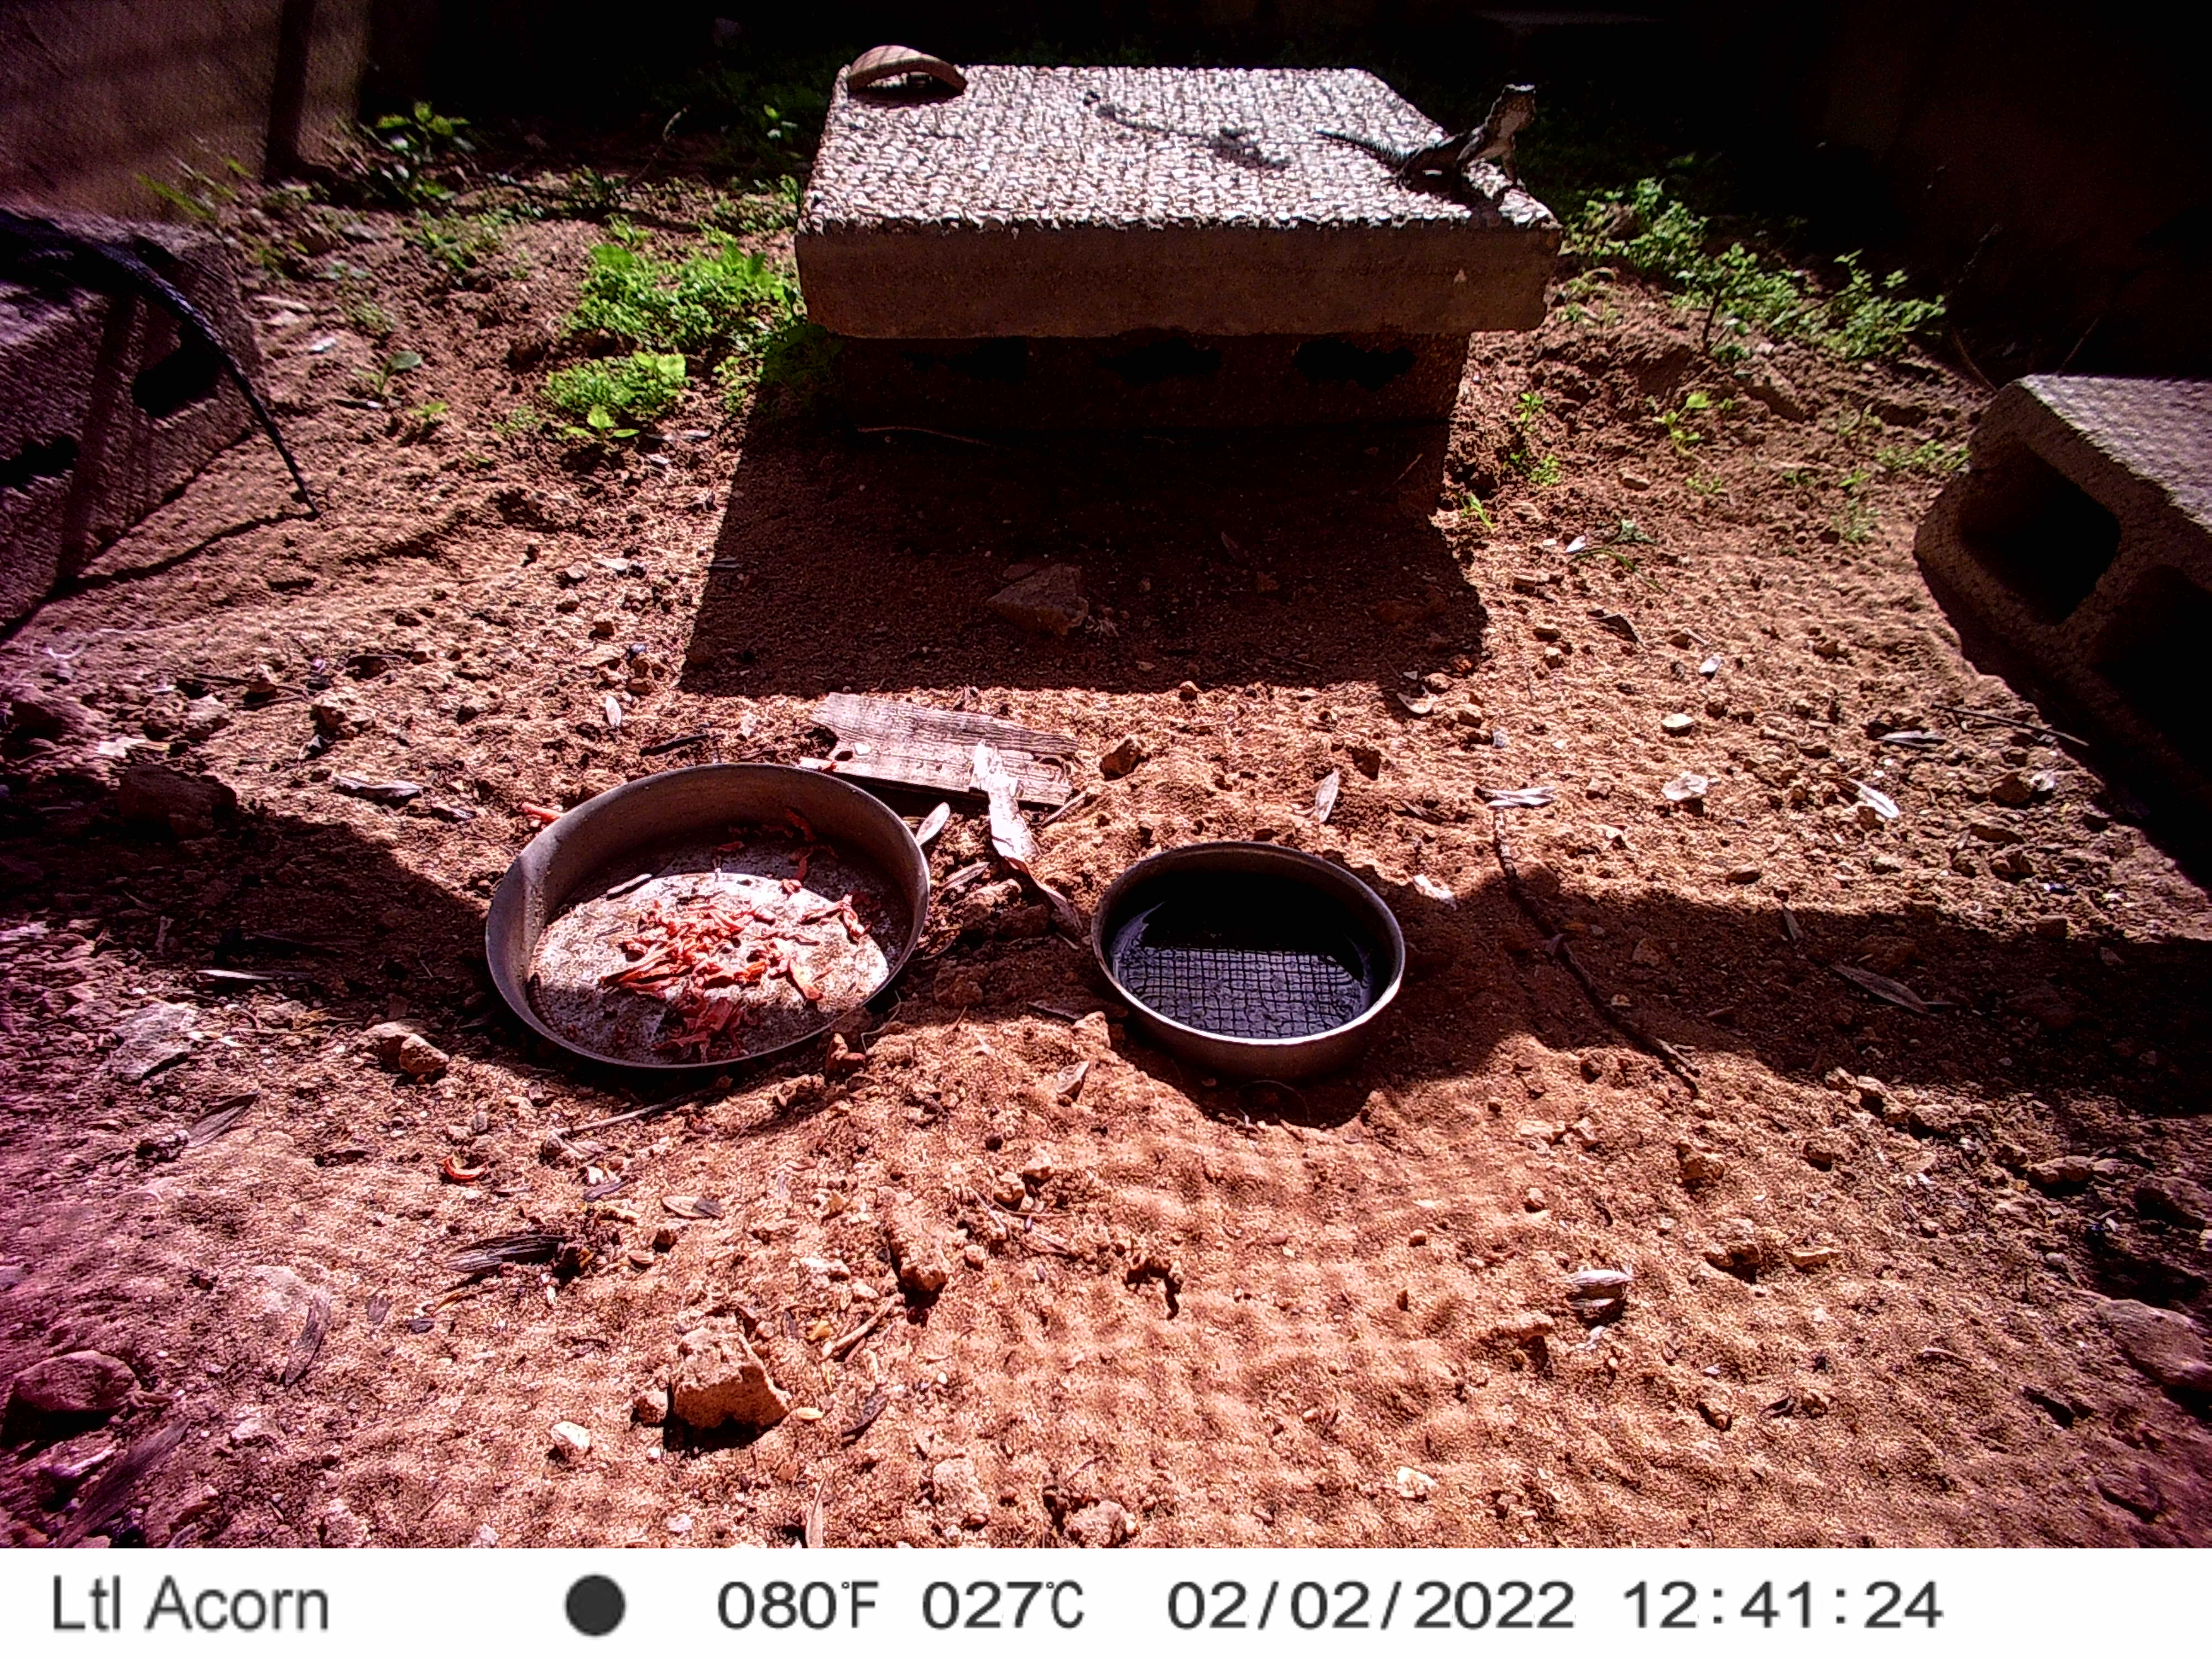lizard: (3, 197, 352, 514), (1315, 78, 1543, 193)
